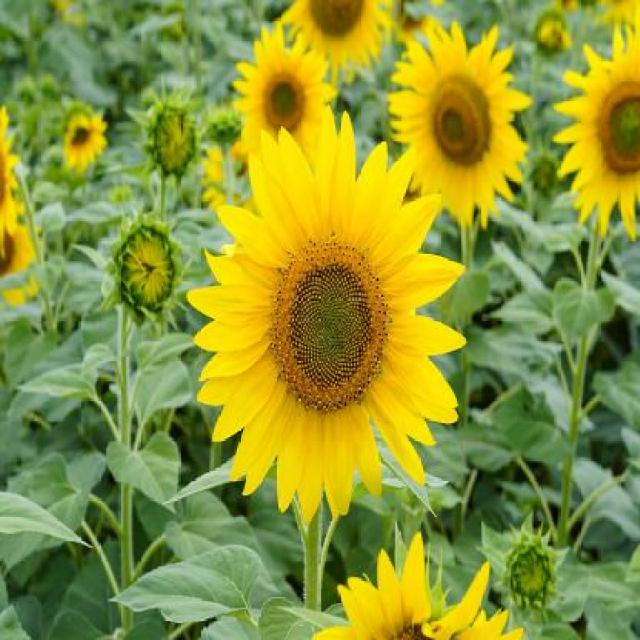sunflower: (195, 87, 456, 522), (394, 10, 536, 232), (555, 23, 640, 242), (232, 26, 334, 173)
